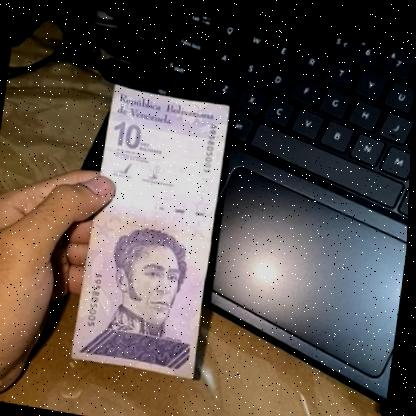ten-front-vef: (72, 79, 233, 379)
